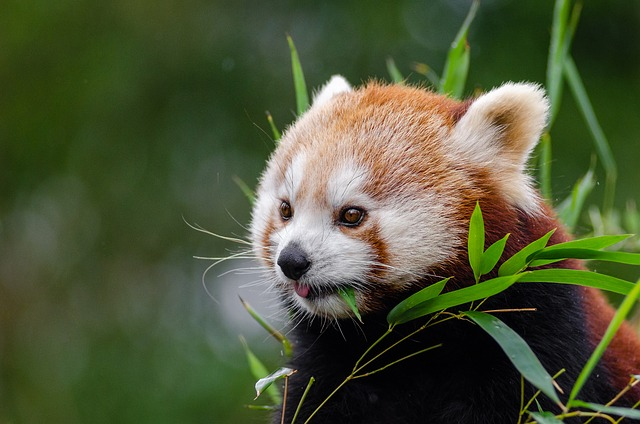red_panda: (233, 76, 613, 424)
